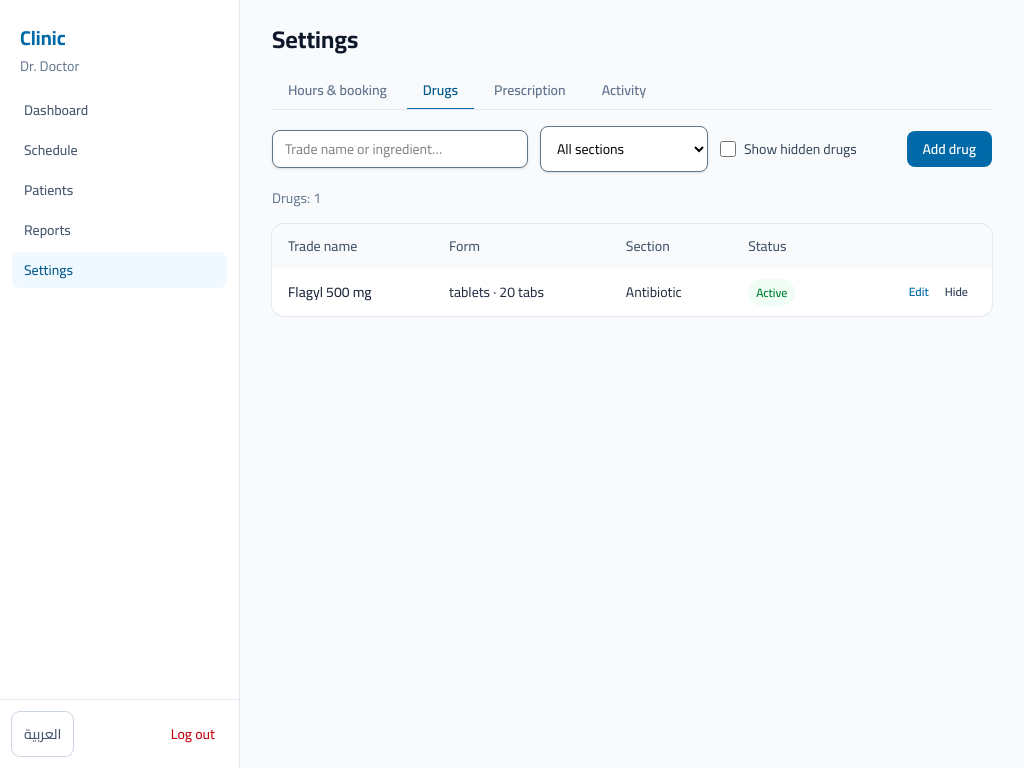
Settings → Drugs › shows 422 errors next to their fields and ingredients
The image size is (1024, 768).
Click the button "Add drug". click: [949, 149]
box: [906,131,992,167]
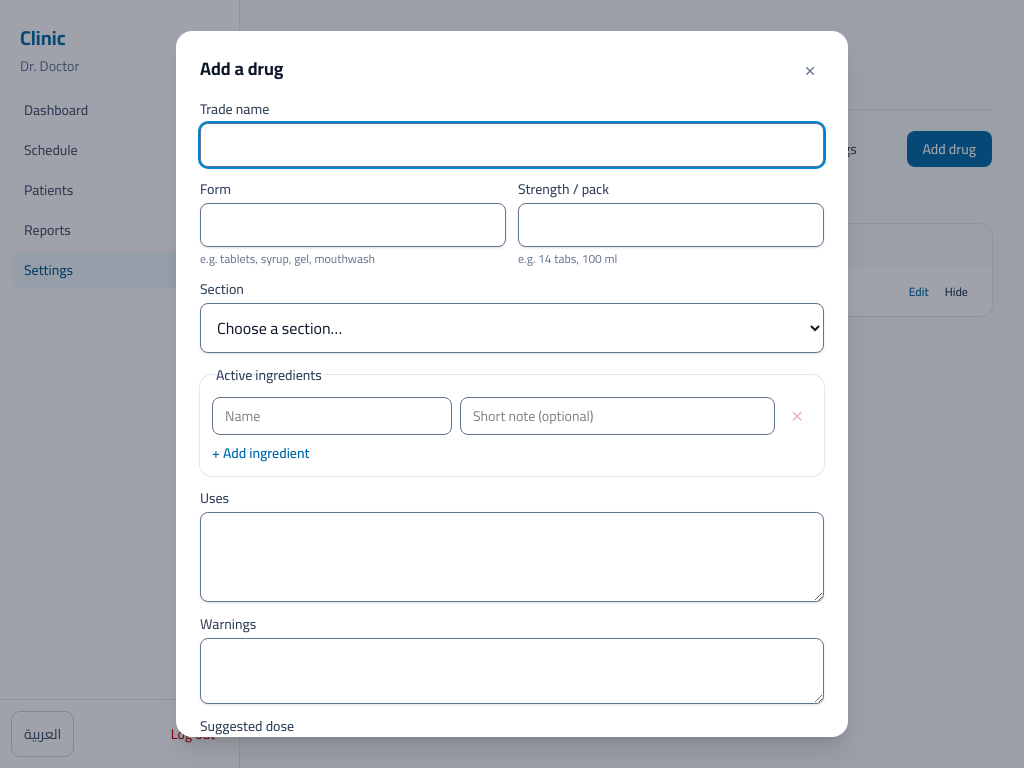
Type "x" into the field named "Ingredient 1". click: [332, 416]
box: [212,397,452,435]
(page scrolled)
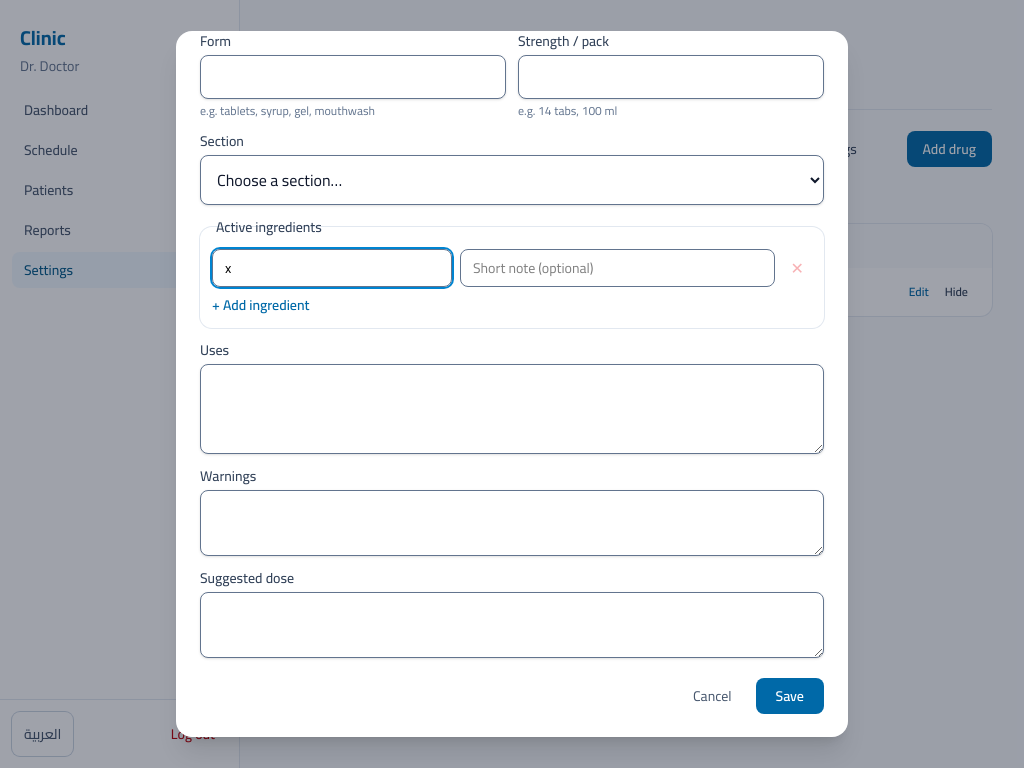
Click the button "Save". click: [790, 696]
box: [756,678,824,714]
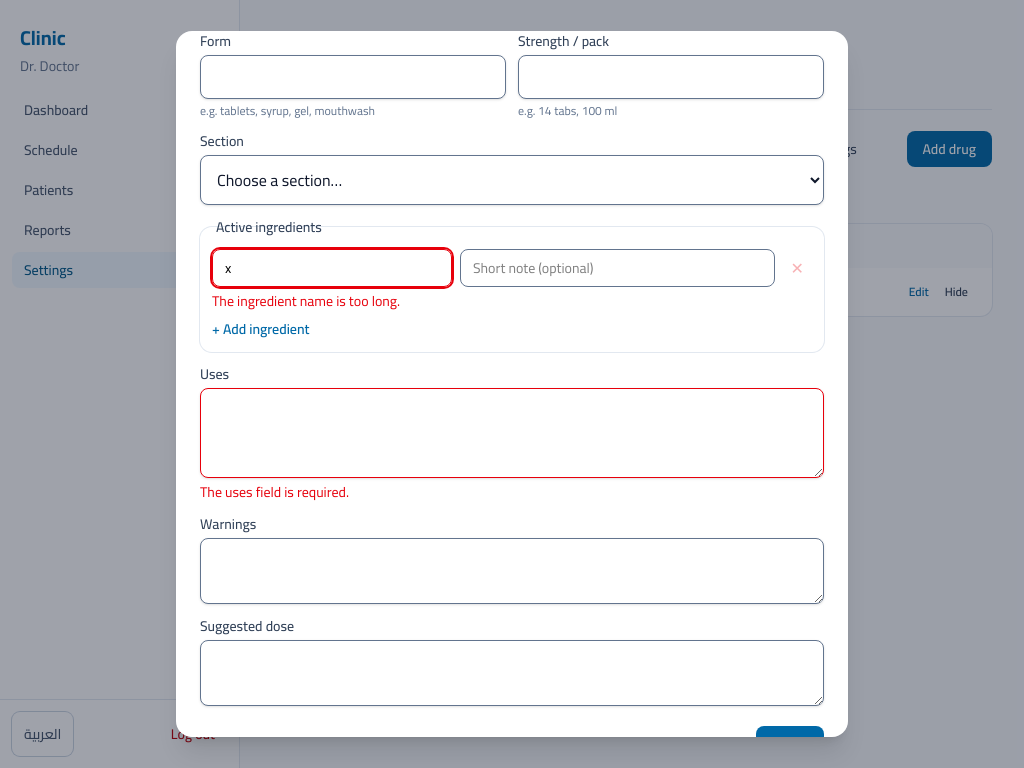
Expected: the text "The uses field is required." is shown, [200,479,349,505]
Expected: the text "The ingredient name is too long." is shown, [212,288,400,314]
